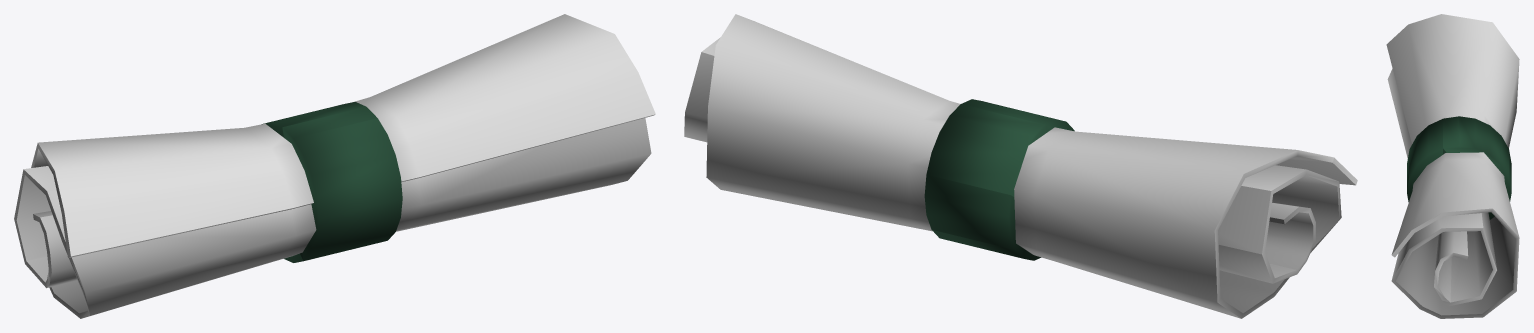
File: pq_parchemin.glb
3 renders of one model, left to right at view 1: azimuth 30°, elevation 25°; view 2: azimuth 150°, elevation 25°; view 3: azimuth 270°, elevation 25°, orthographic. The views are drawn at different scales.
Visible parts, largest first — view 1: Scroll_1; view 2: Scroll_1; view 3: Scroll_1.
Boxes of the visible parts, x1,y1,x2,y2 form: Scroll_1: (14, 14, 655, 318); Scroll_1: (684, 14, 1357, 318); Scroll_1: (1386, 14, 1519, 318).
Size of the model in its own units: 0.2439 by 0.0588 by 0.0631.
